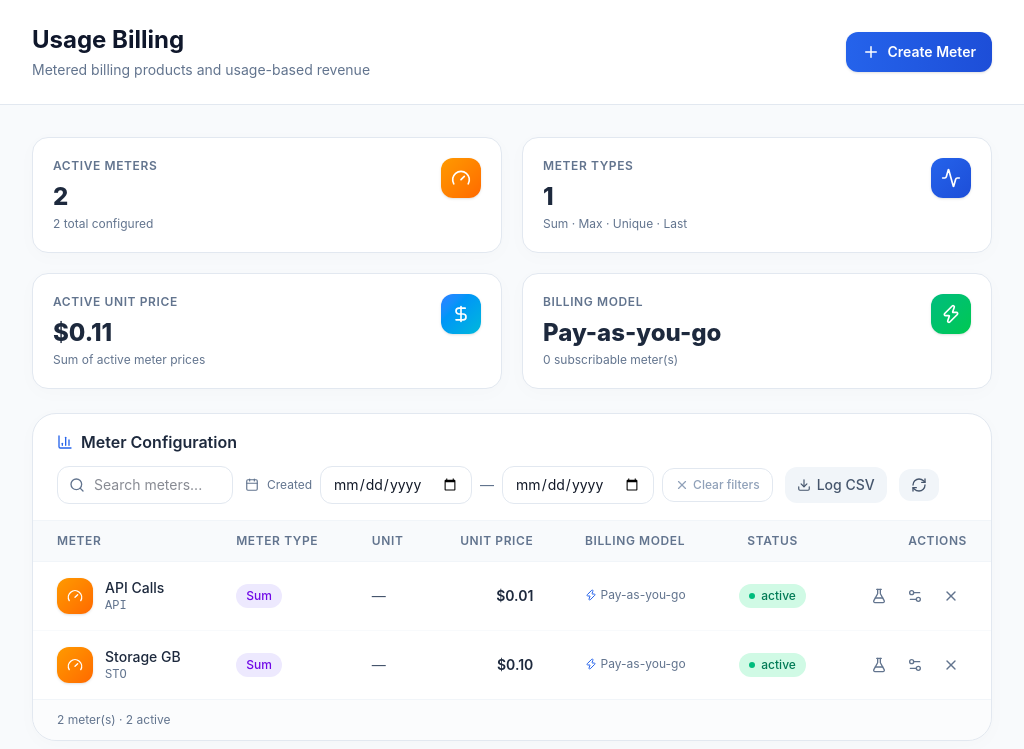
Test: BUG-12.3 Usage Billing date range › Clear also resets the inverted-range warning
expect the button "API Calls" is shown: met, box [105, 578, 164, 598]
Type "2026-02-01" into the date field named "Created from date" at (396, 485), box [320, 466, 472, 504]
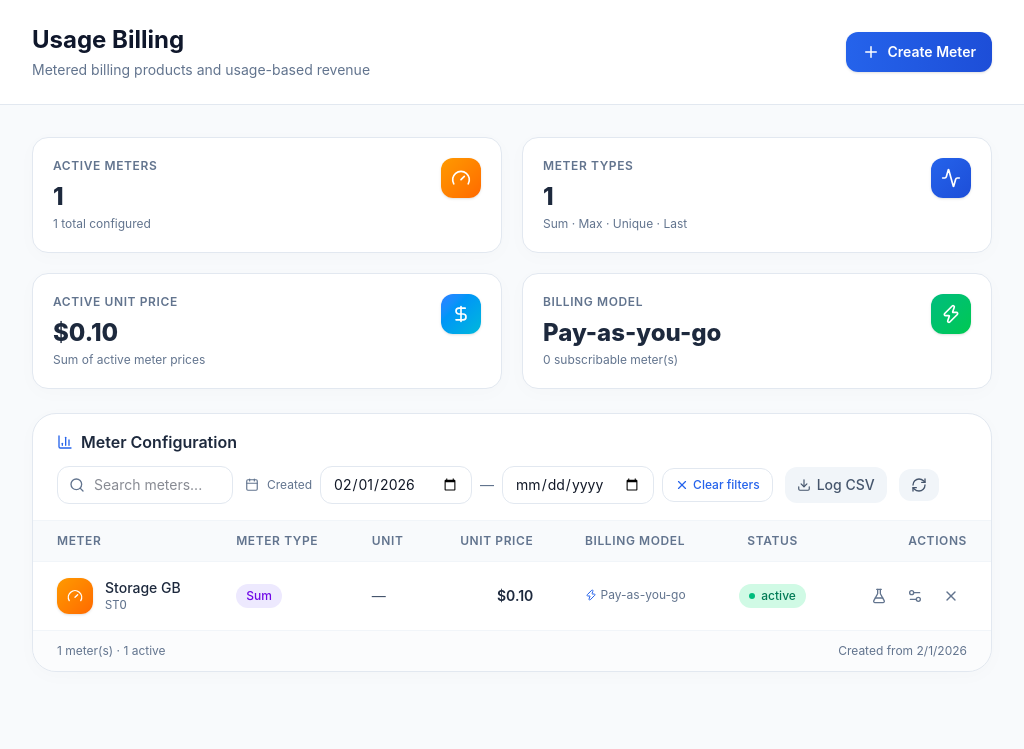
Type "2026-01-01" into the date field named "Created to date" at (578, 485), box [502, 466, 654, 504]
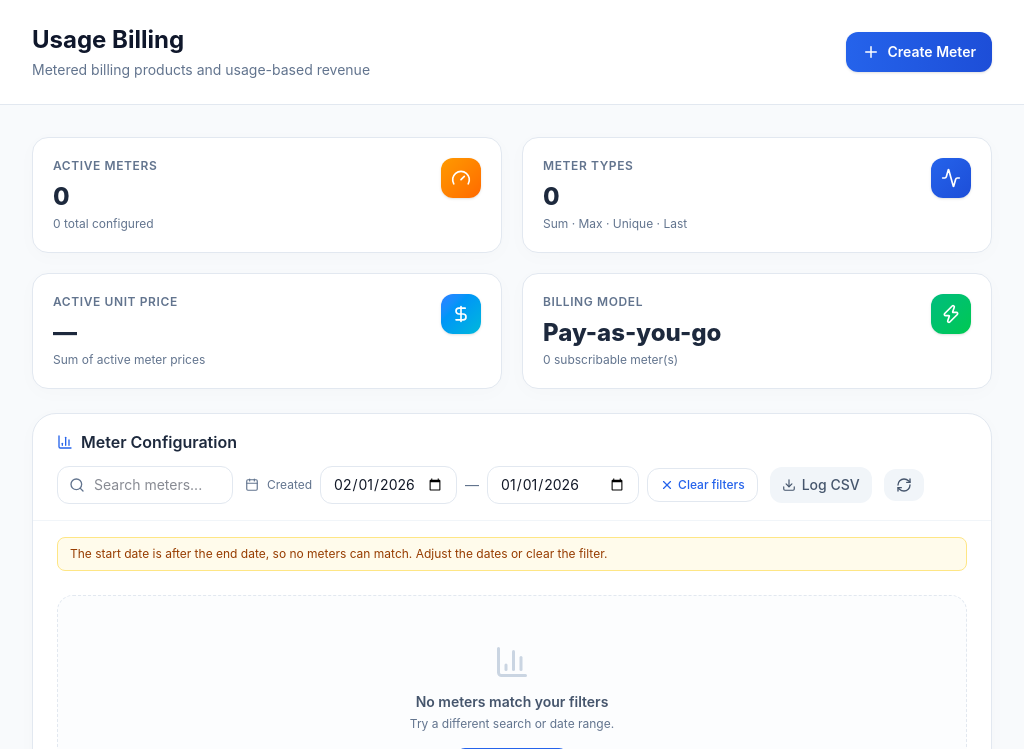
expect the text "start date is after the end date" is shown: met, box [70, 546, 607, 561]
Click the 1st button "Clear filters" at (702, 485), box [647, 468, 758, 502]
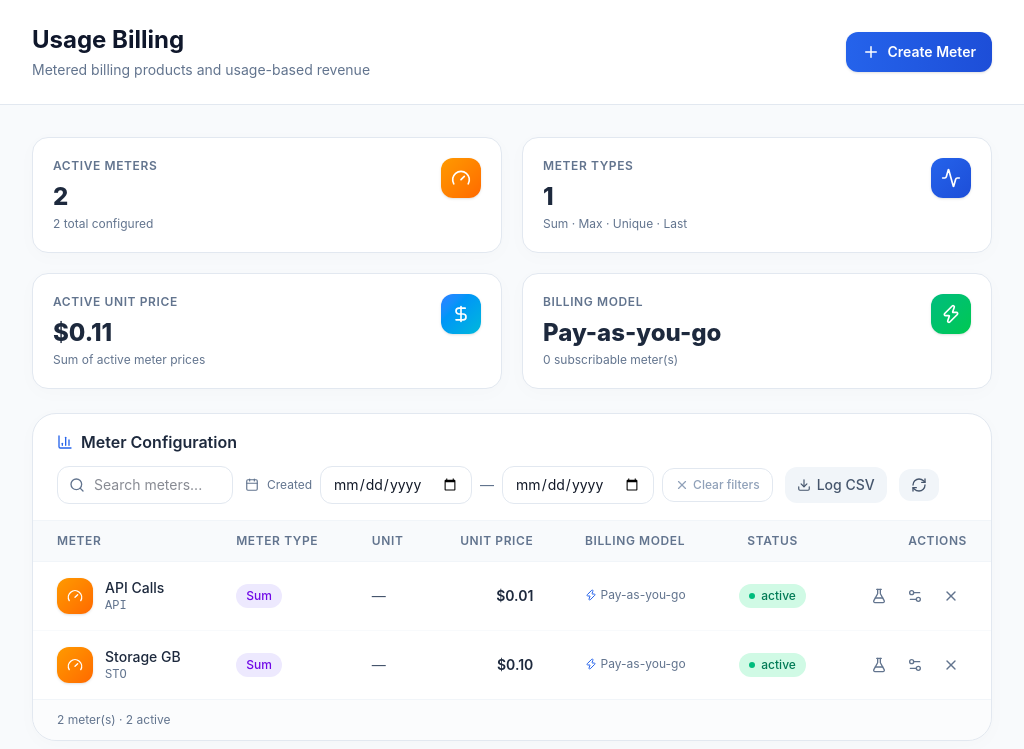
expect the text "start date is after the end date" is gone: met
